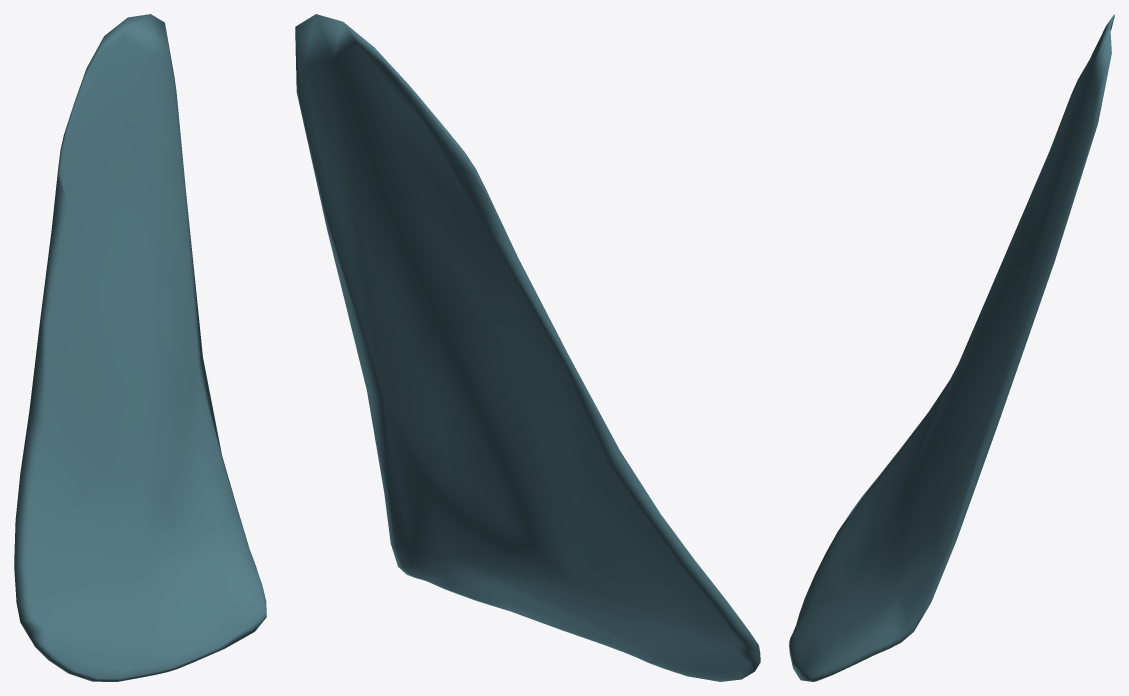
File: Pronator_quadratus-Radial_insertions.r_Generated_Mesh_From_X3D..glb
3 views of the same model, side by side, from view 1: azimuth 30°, elevation 25°; view 2: azimuth 150°, elevation 25°; view 3: azimuth 270°, elevation 25° (orthographic). The views are drawn at different scales.
Parts seen in each view (by area): view 1: Pronator_quadratus-Radial_insertions.r_Generated_Mesh_From_X; view 2: Pronator_quadratus-Radial_insertions.r_Generated_Mesh_From_X; view 3: Pronator_quadratus-Radial_insertions.r_Generated_Mesh_From_X.
Part boxes in pixels (box(x1,y1,x2,y2)): Pronator_quadratus-Radial_insertions.r_Generated_Mesh_From_X: box(14, 14, 266, 681); Pronator_quadratus-Radial_insertions.r_Generated_Mesh_From_X: box(295, 14, 760, 681); Pronator_quadratus-Radial_insertions.r_Generated_Mesh_From_X: box(789, 14, 1114, 681).
Bounding box in the file's own units: 0.0227 × 0.0475 × 0.0204.
